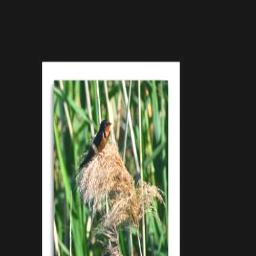Swallow: (75, 117, 114, 174)
